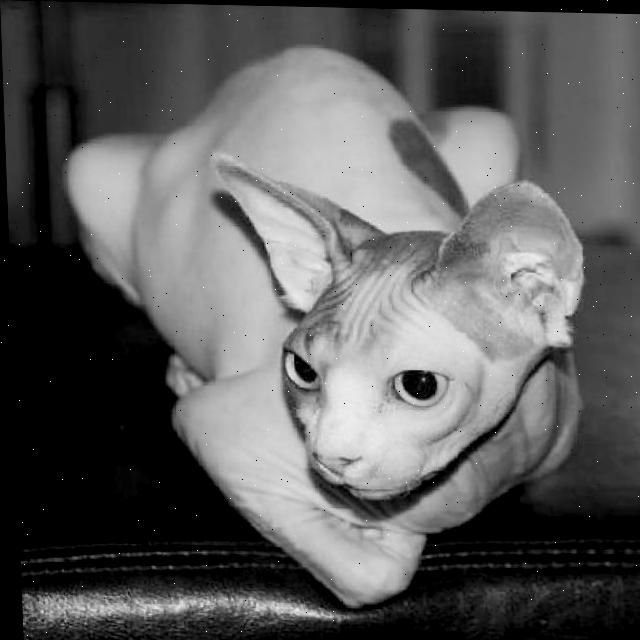Cat: (59, 42, 599, 610)
